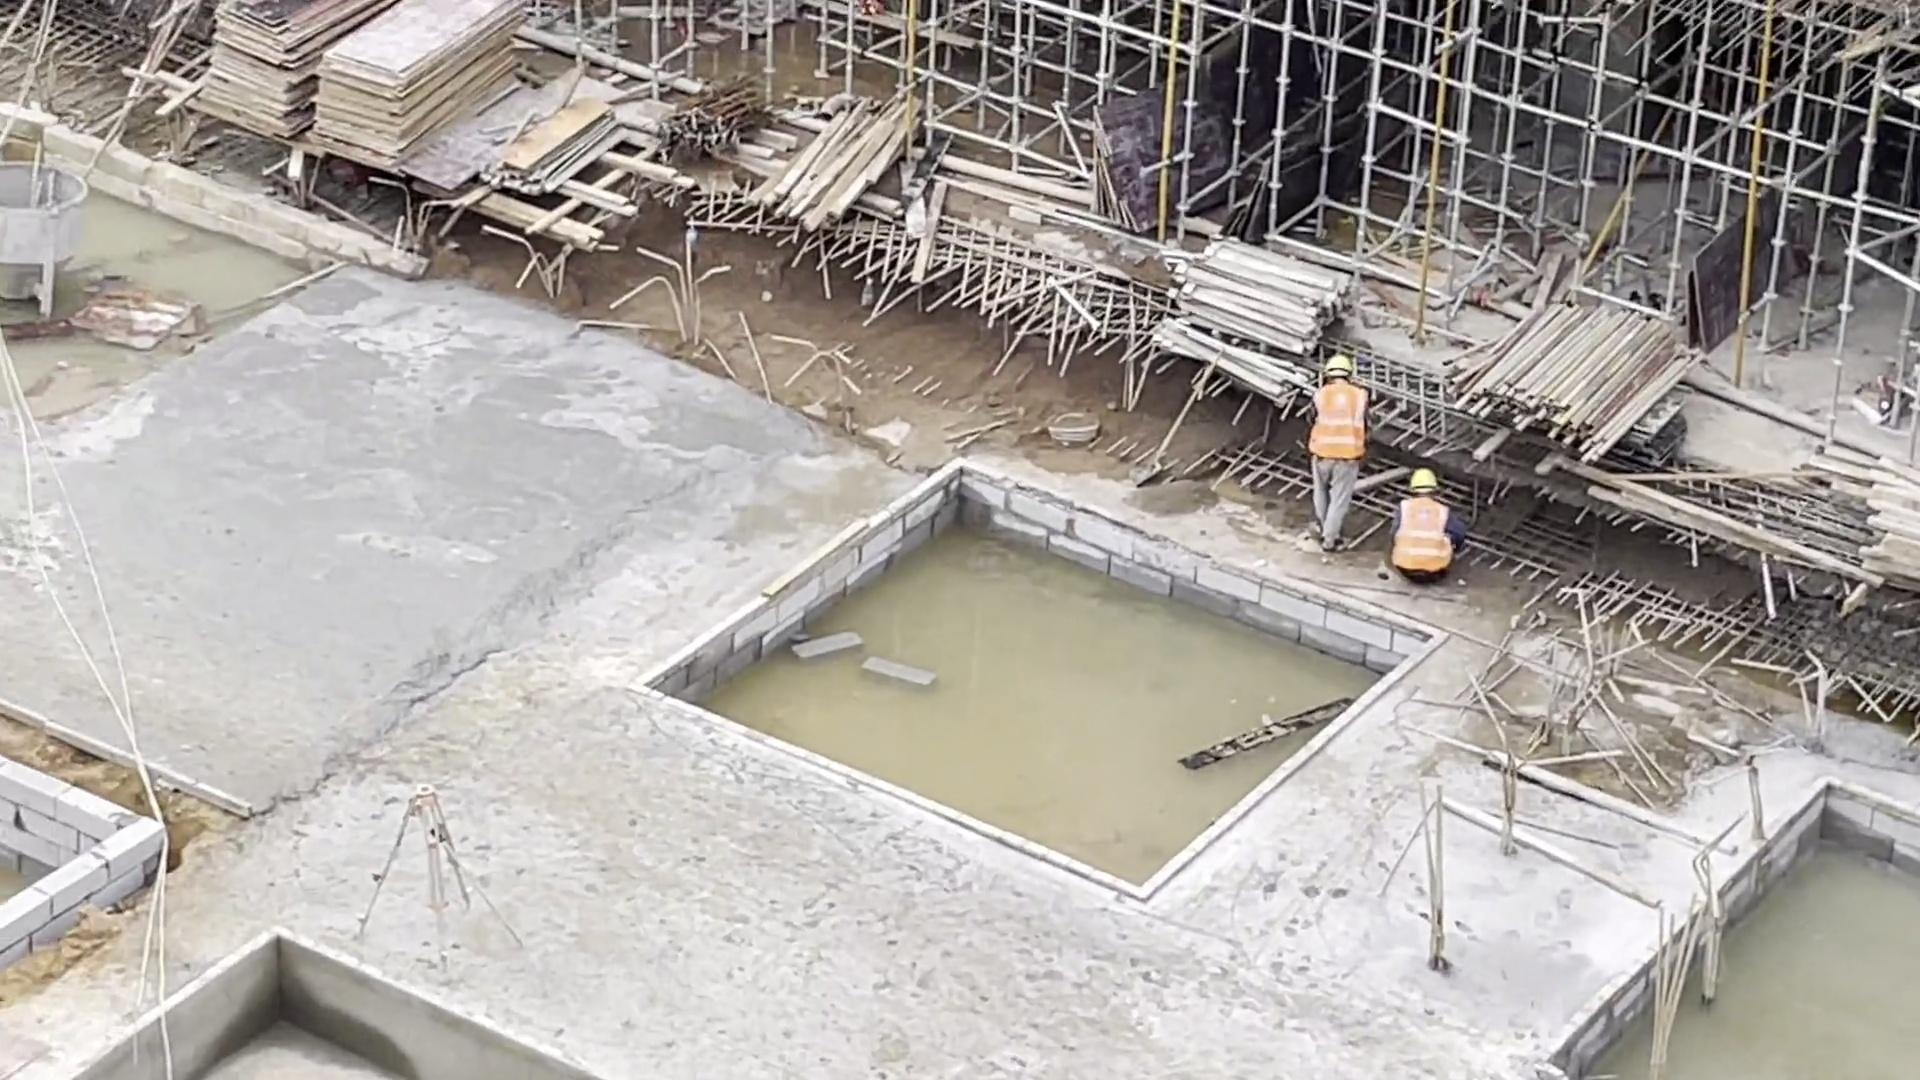helmet: (1410, 468, 1438, 493), (1324, 357, 1356, 379)
person: (1298, 356, 1377, 557), (1395, 466, 1469, 592)
vest: (1389, 497, 1455, 573), (1305, 382, 1367, 461)
